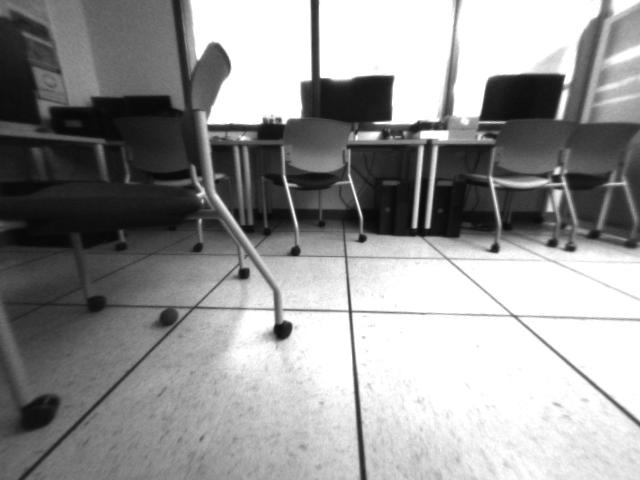dogtoy: (152, 301, 187, 328)
